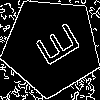E: (26, 21, 82, 73)
